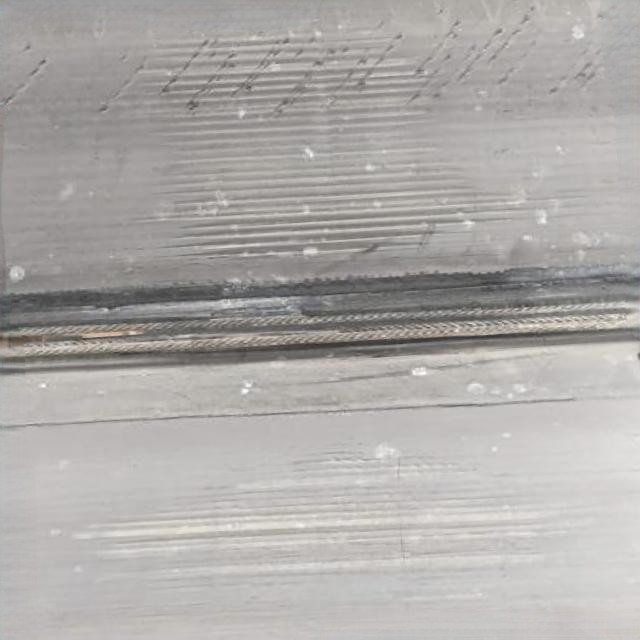Tear: (0, 264, 640, 381)
Wear: (80, 18, 532, 264), (58, 436, 595, 610)
